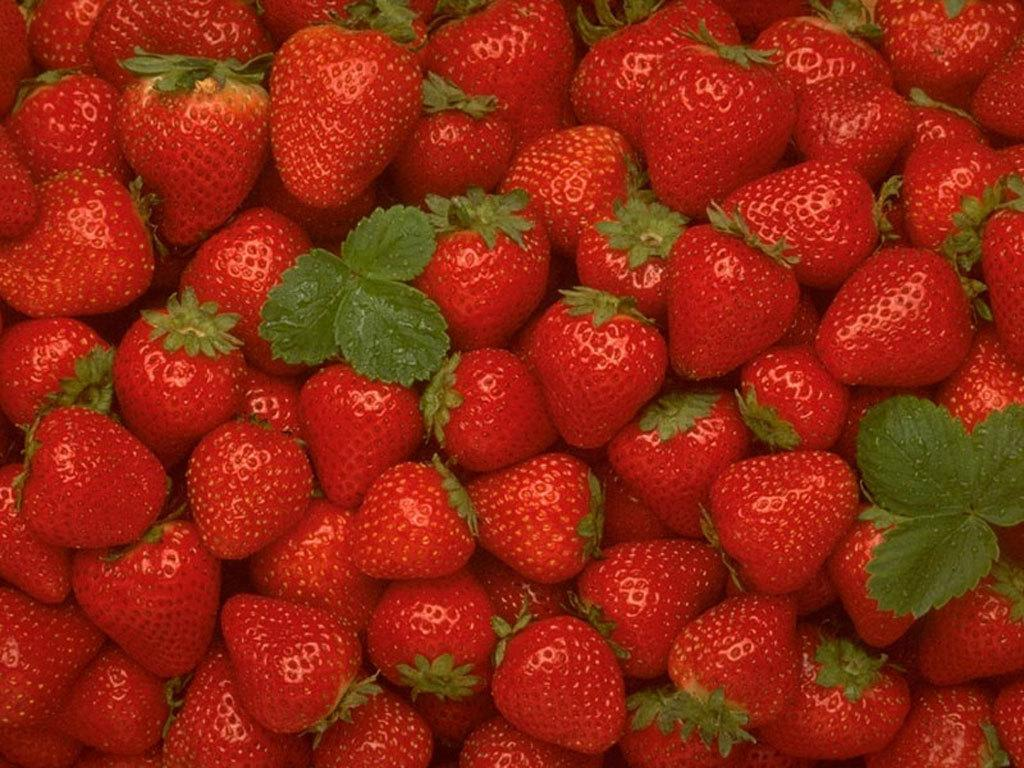strawberry: (256, 22, 421, 217), (108, 54, 269, 246), (814, 234, 990, 403), (632, 30, 792, 208), (484, 608, 651, 768), (658, 214, 805, 392), (210, 584, 366, 744), (694, 452, 862, 598), (178, 412, 321, 573), (10, 394, 165, 542), (530, 284, 654, 453), (338, 456, 486, 592), (416, 196, 553, 342), (296, 352, 429, 486)
